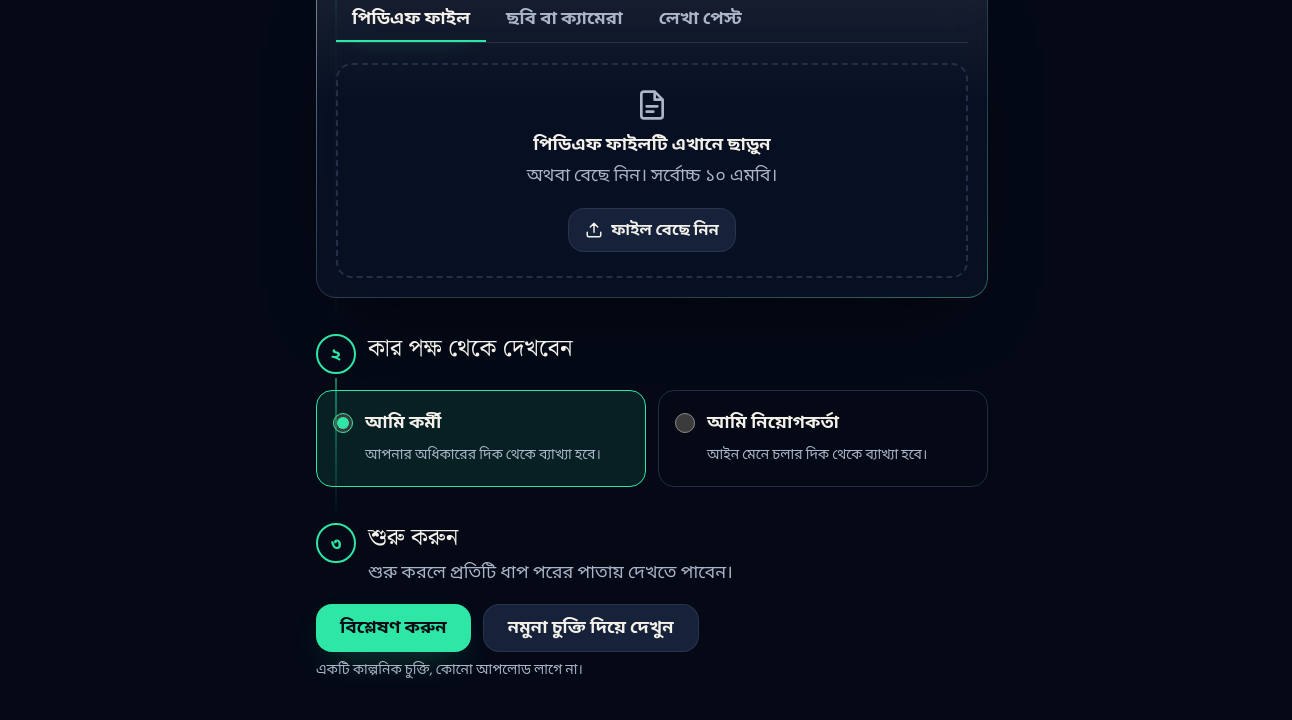
Test: UploadPage › FR-69 sends the employer side when it is chosen
(page scrolled)
Click the radio button labelled "আমি নিয়োগকর্তা আইন মেনে চলার দিক থেকে ব্যাখ্যা হবে।".
click(685, 422)  # box [675, 412, 695, 432]
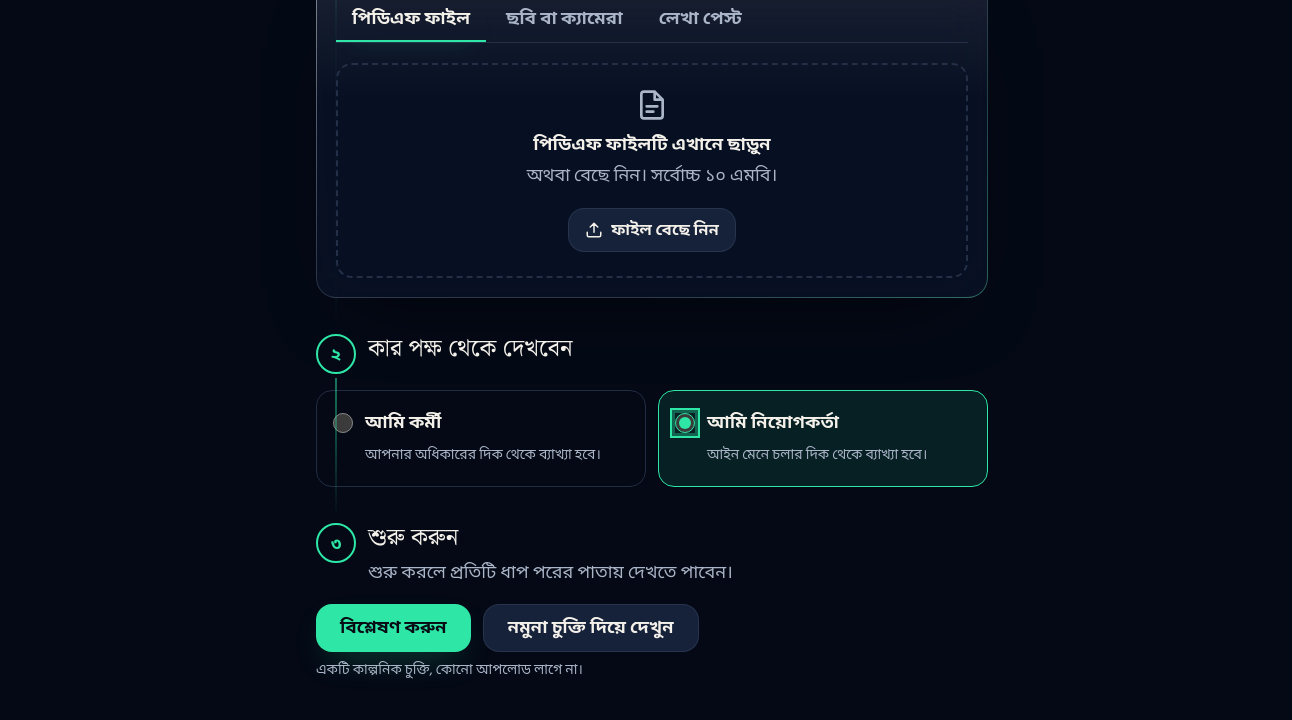
Click the button "নমুনা চুক্তি দিয়ে দেখুন".
click(591, 628)  # box [483, 604, 699, 652]
(page scrolled)
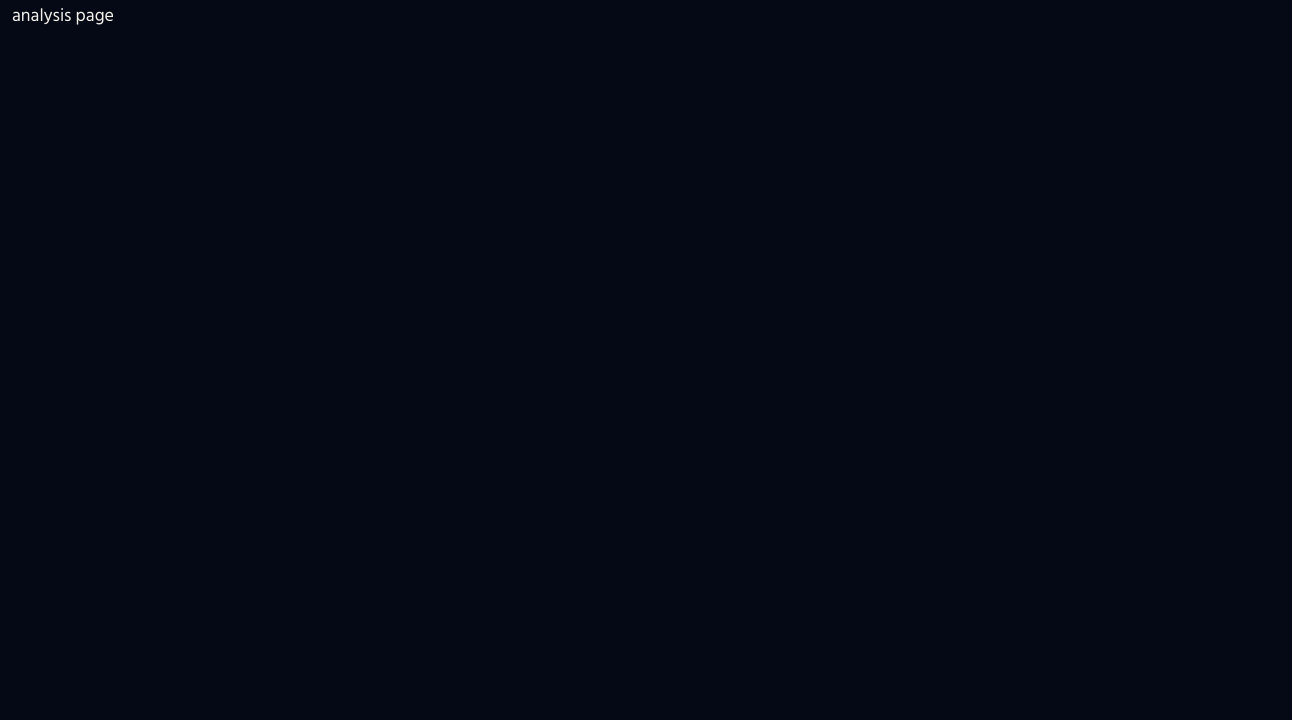
Check: the text "analysis page" is shown, box [12, 1, 114, 30]
